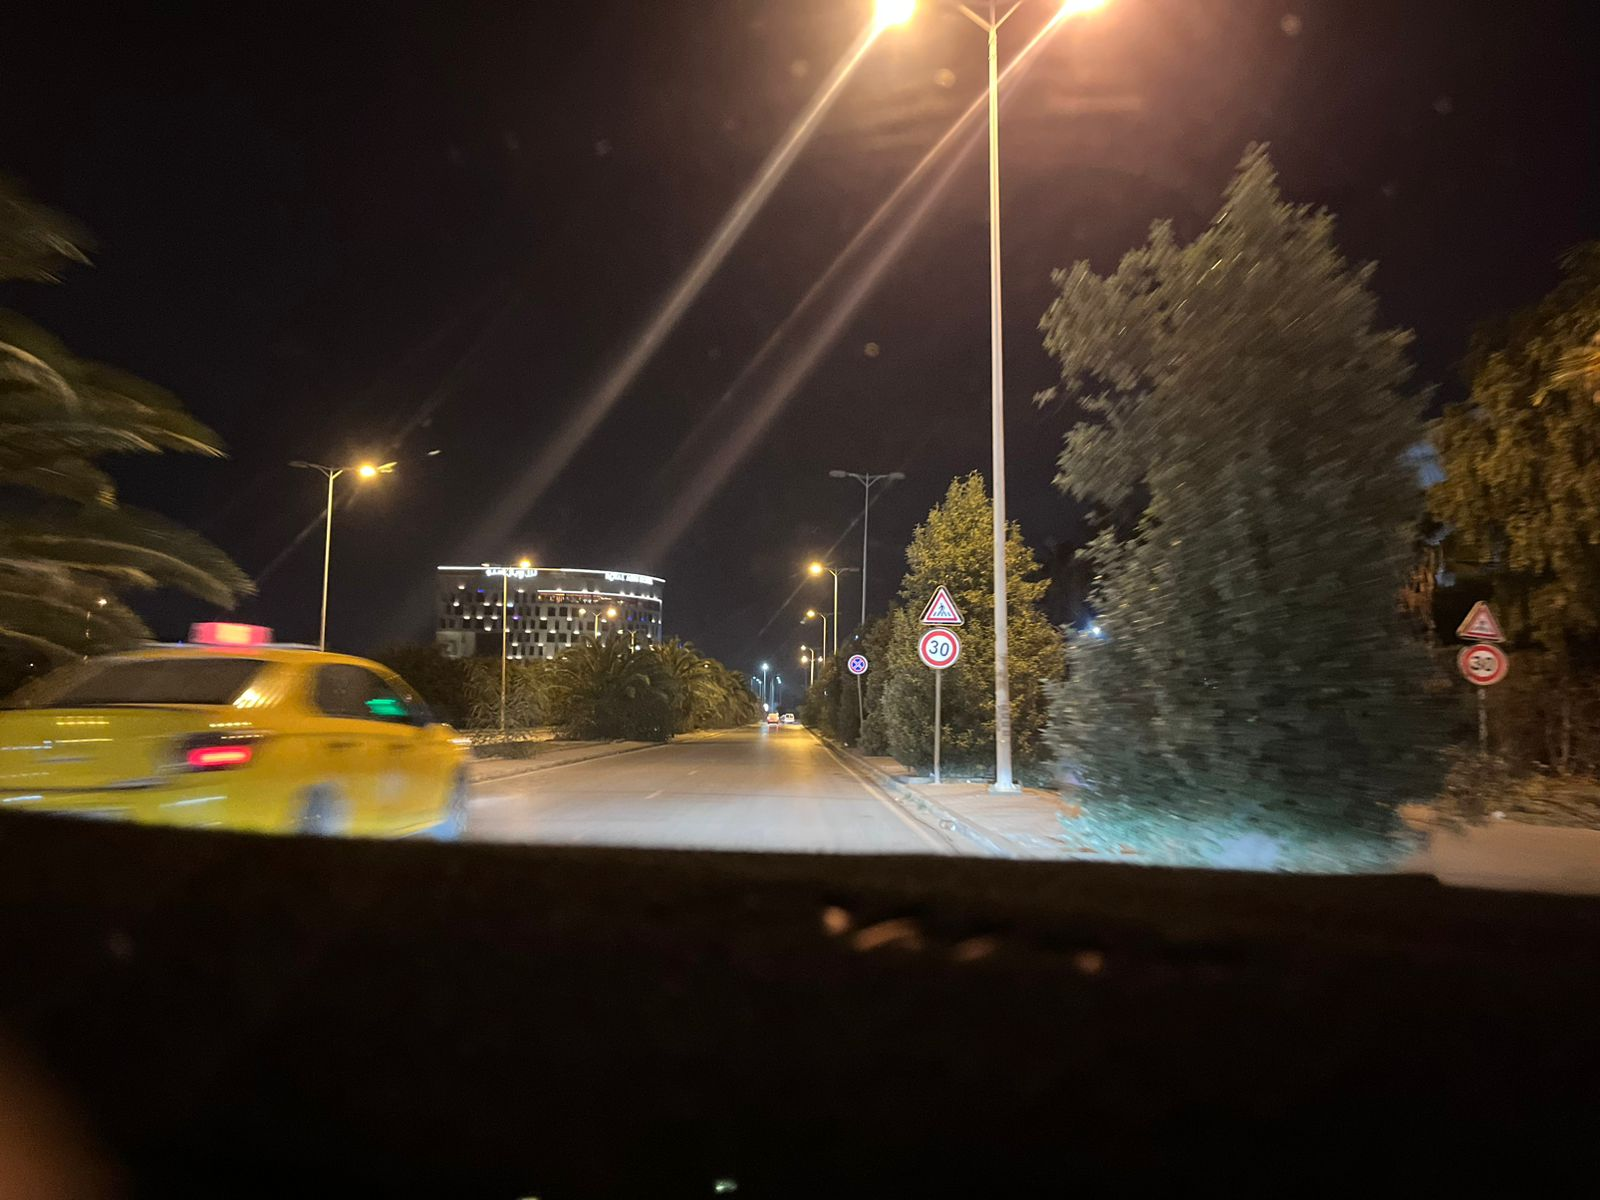SpeedLimit30: (917, 627, 963, 671)
